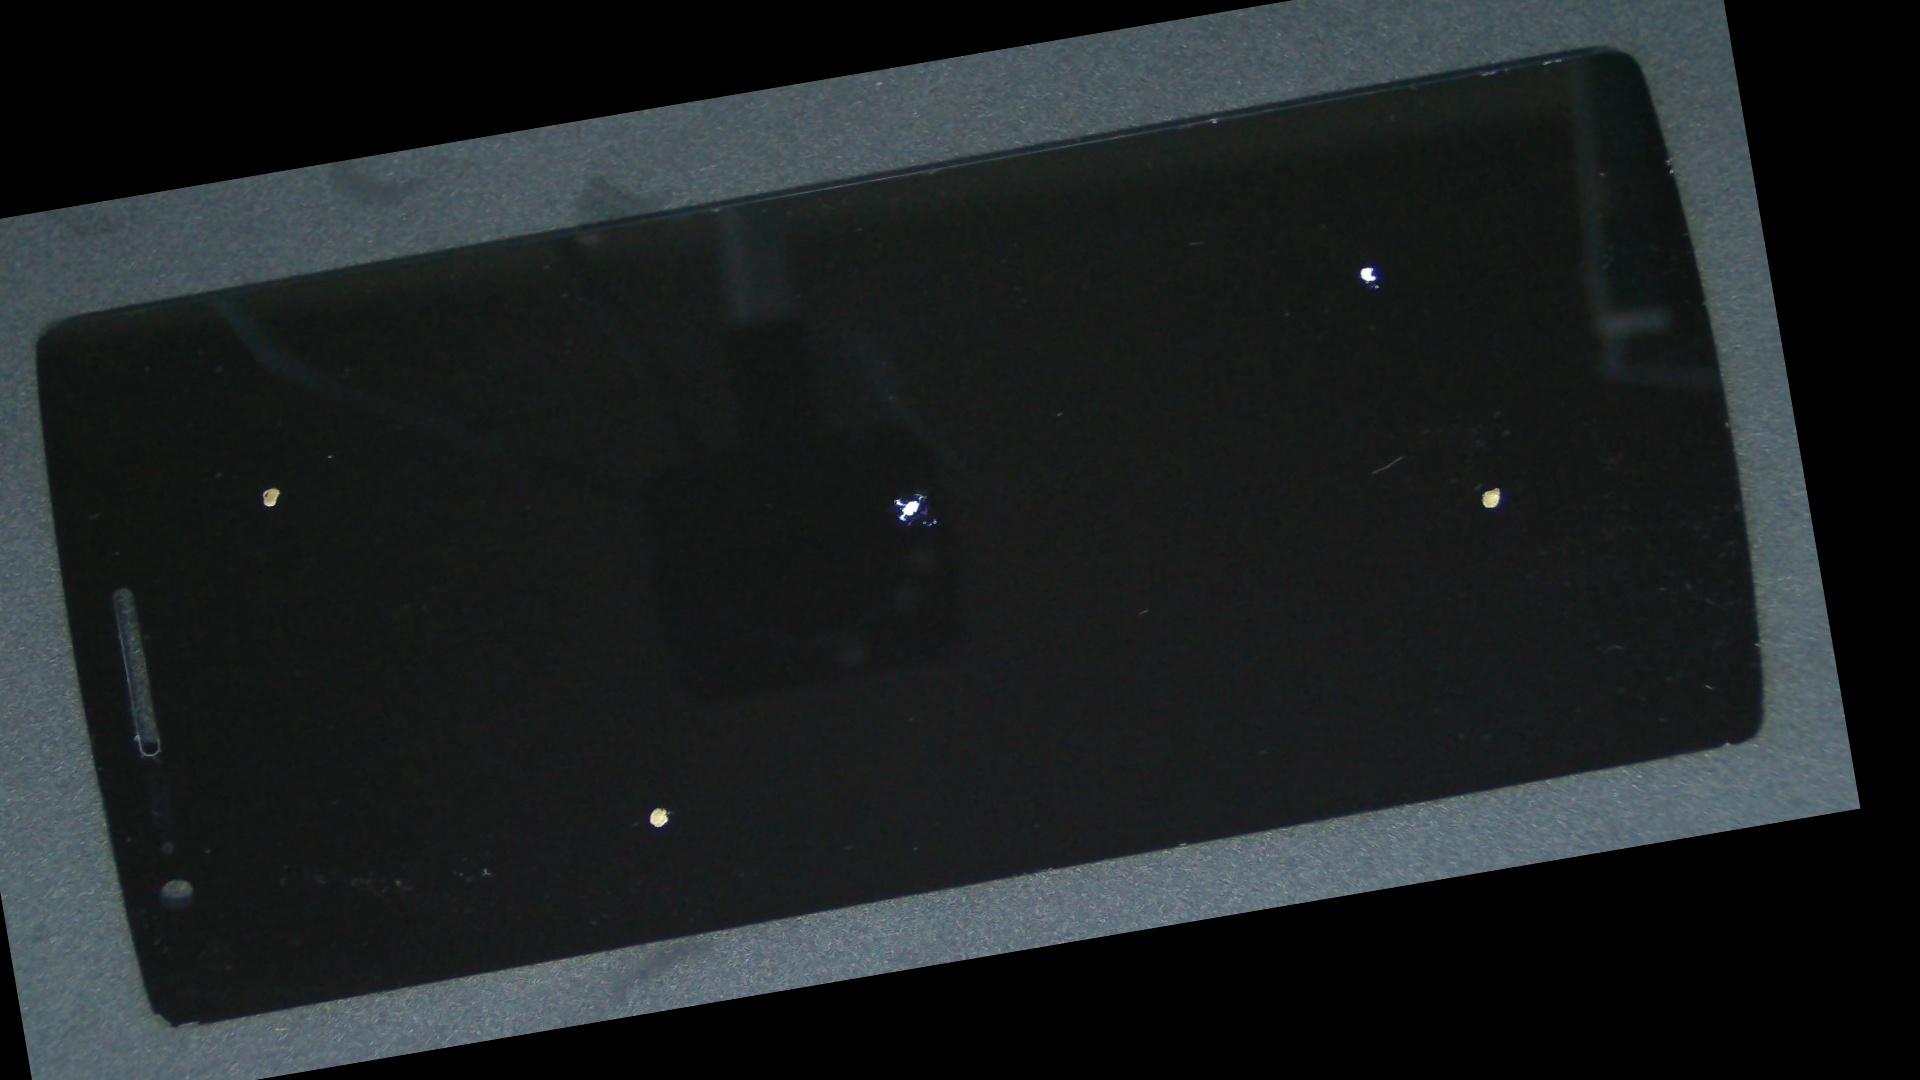oil: (687, 182, 1841, 872), (406, 202, 1437, 781), (630, 63, 1780, 521), (274, 410, 1015, 1062), (79, 307, 455, 669)
